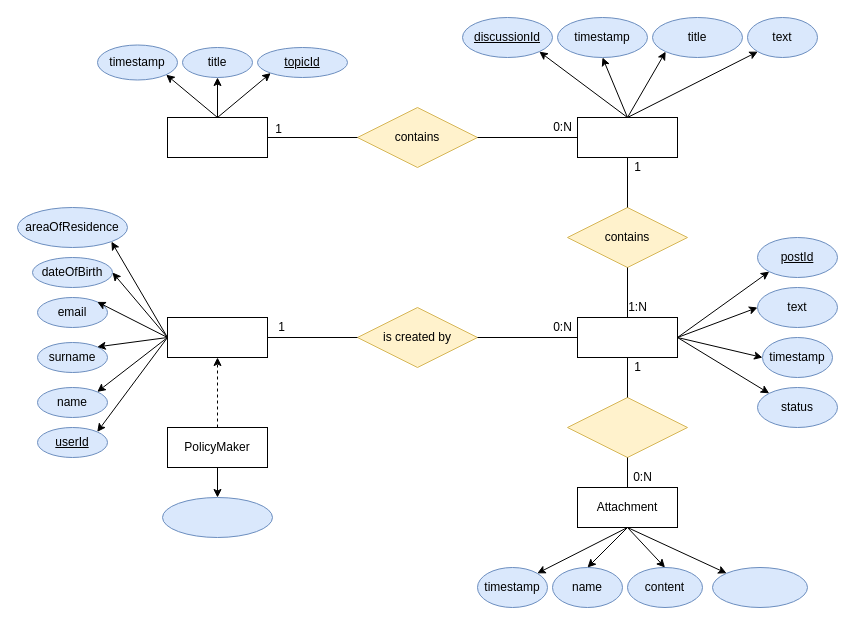
Image size: 855x625. Some labels were removed from this diagram. The shapes that lost their labels are listed below. From the top down, each one's centre as x and y in pixels, then its label:
At point 217,137: "Topic".
At point 627,137: "Discussion".
At point 217,337: "User".
At point 627,337: "Post".
At point 627,427: "belongs to".
At point 217,517: "policyMakerID".
At point 760,587: "attachmentId".
